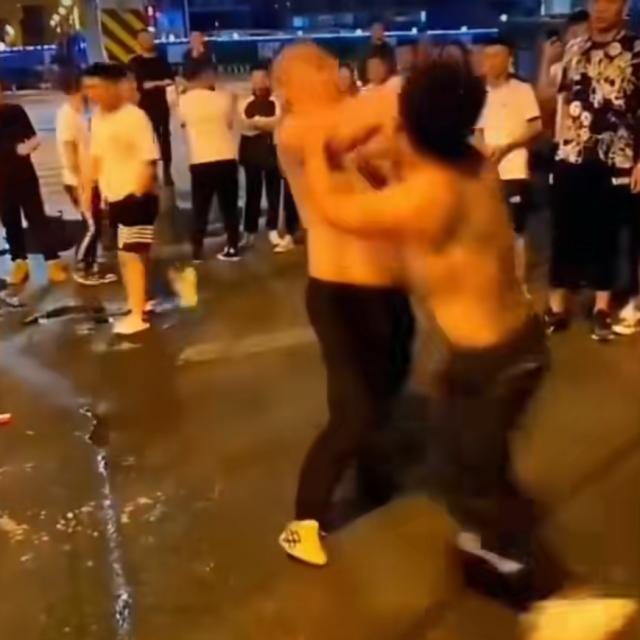fight: (248, 38, 526, 274)
nofight: (71, 60, 184, 332), (548, 0, 636, 349), (178, 61, 256, 270)
